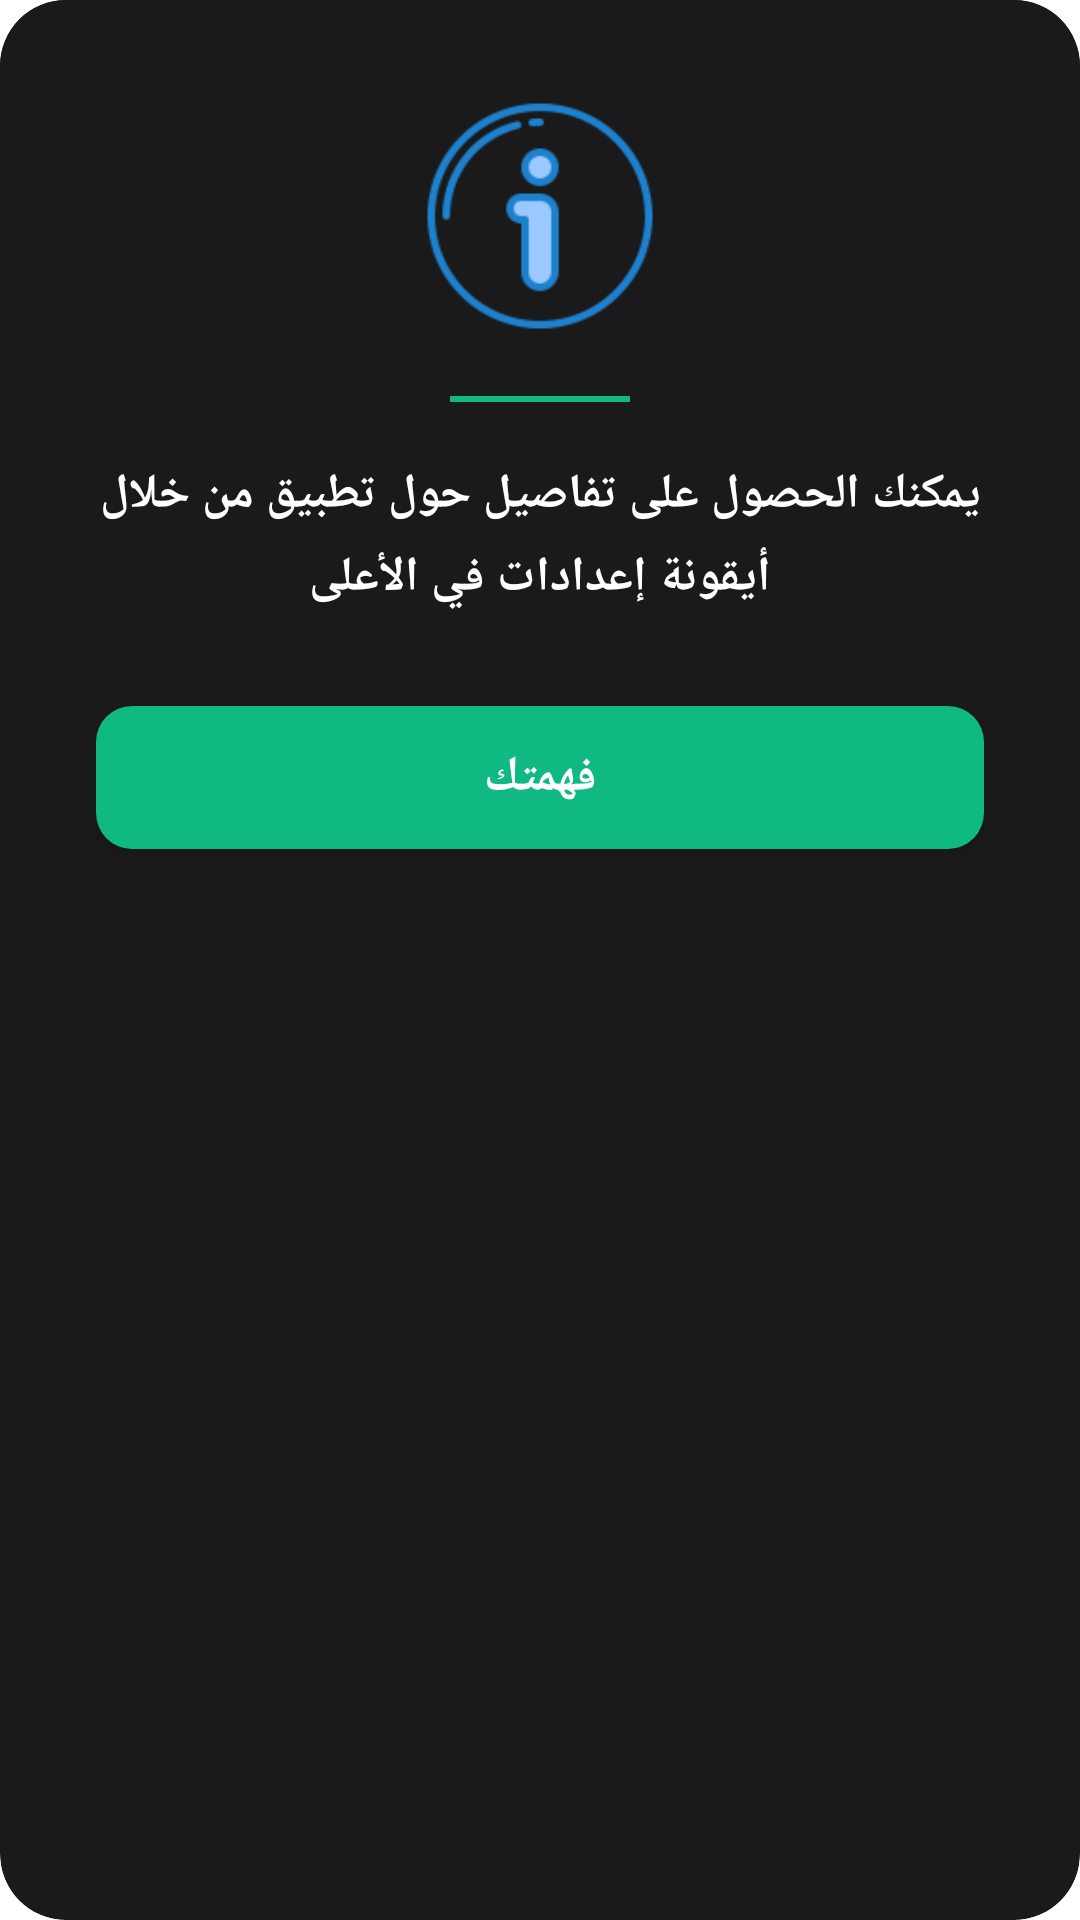

Locate icon controls on the screen. Image size 1080px×1920px, boxes as (x1, y1, x2, y2).
about: (427, 103, 653, 329)
